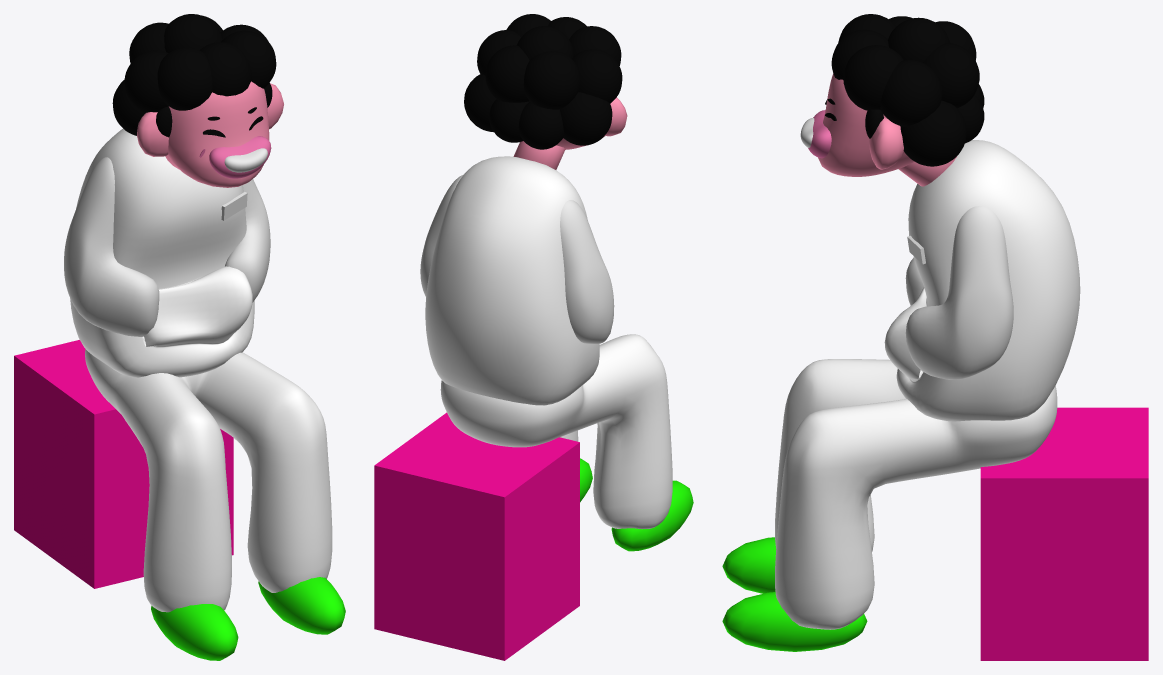
The model's file is friend_smile.glb.
The picture shows the model from 3 angles, left to right: view 1: azimuth 30°, elevation 25°; view 2: azimuth 150°, elevation 25°; view 3: azimuth 270°, elevation 25°; orthographic projection. The views are drawn at different scales.
Visible parts, largest first — view 1: pCube10, pCube9, 1body1, hair, 3-2body, pCube1, pCube13, pCube12, 구체.013, 구체.014; view 2: pCube9, 1body1, pCube10, hair, 3-2body, pCube13, pCube1, 구체.016; view 3: pCube9, pCube10, 1body1, hair, 3-2body, pCube1, pCube12, 구체.016, pCube13, 구체.013.
Part boxes in pixels (x1,y1,x2,y2): pCube10: (85,336,332,612); pCube9: (14,340,233,588); 1body1: (70,128,254,377); hair: (112,14,276,137); 3-2body: (64,157,270,336); pCube1: (137,81,283,187); pCube13: (151,604,238,660); pCube12: (258,577,345,634); 구체.013: (209,136,271,178); 구체.014: (224,148,267,172); pCube9: (374,412,579,660); 1body1: (425,156,599,405); pCube10: (440,334,672,529); hair: (477,14,622,149); 3-2body: (420,174,614,343); pCube13: (611,480,693,551); pCube1: (513,97,627,169); 구체.016: (464,74,496,132); pCube9: (980,407,1148,660); pCube10: (775,359,1057,629); 1body1: (884,140,1080,421); hair: (831,14,984,143); 3-2body: (905,206,1013,379); pCube1: (818,73,956,186); pCube12: (722,592,867,651); 구체.016: (900,100,966,166); pCube13: (722,537,776,593); 구체.013: (808,110,831,158).
Size of the model in its own units: 0.4183 by 1.19 by 0.7618.
